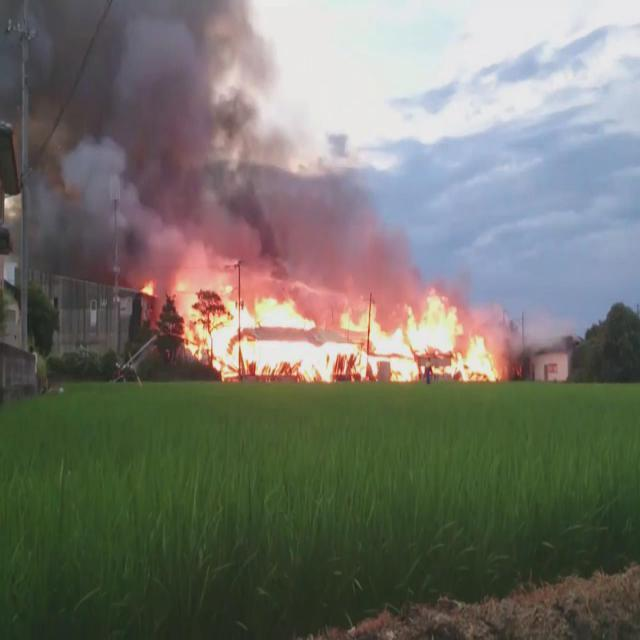Fire: (176, 280, 497, 380), (142, 279, 154, 295)
